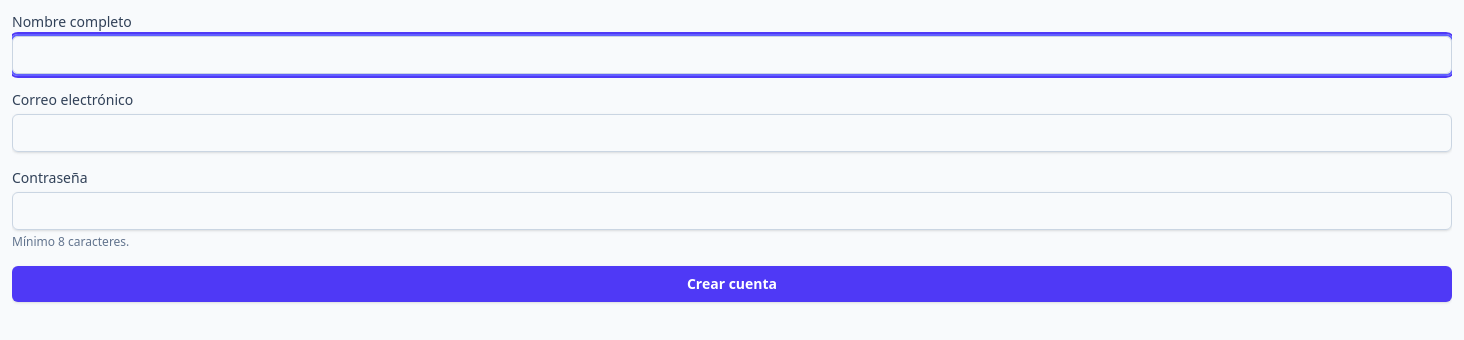
Test case: RegisterForm (accesible, validación visual) › rechaza una contraseña menor a 8 caracteres con mensaje específico
Type "Ana García" into the field labelled "Nombre completo".
click(732, 55); type("Ana García")  # box [12,36,1452,74]
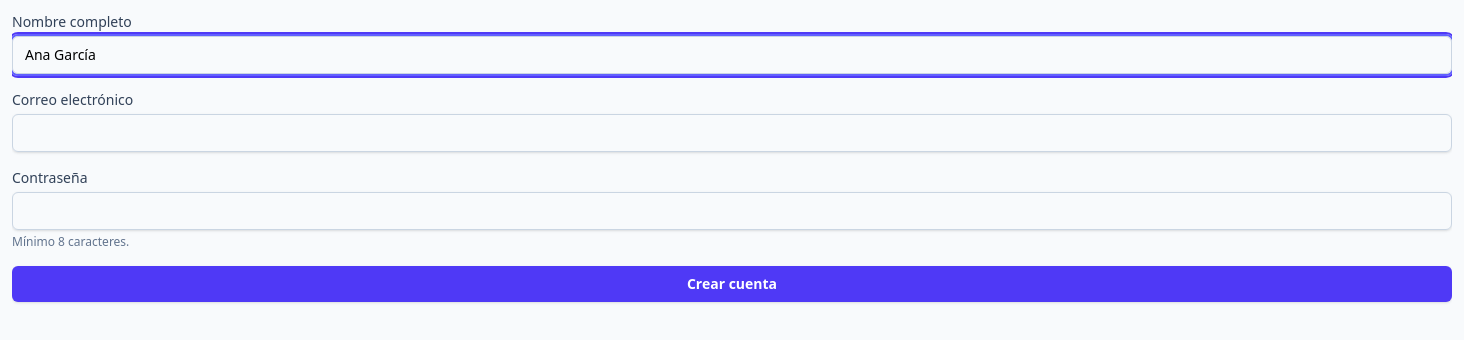
Type "ana@example.com" into the field labelled "Correo electrónico".
click(732, 133); type("ana@example.com")  # box [12,114,1452,152]
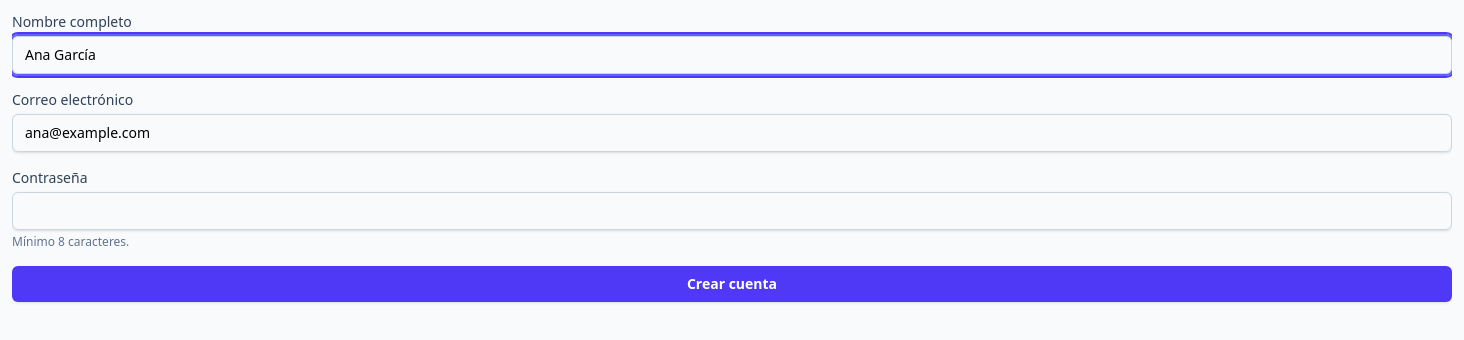
Type "corta" into the password field labelled "Contraseña".
click(732, 211); type("corta")  # box [12,192,1452,230]
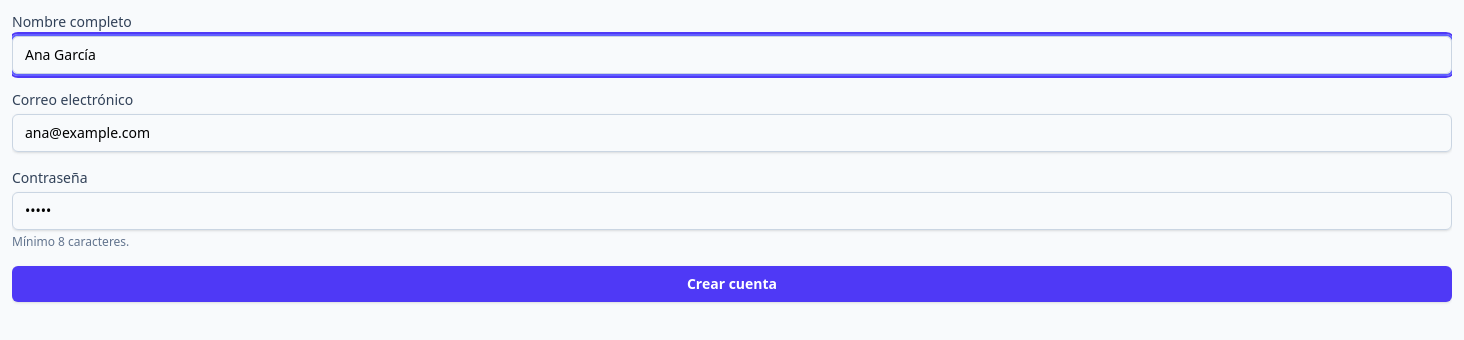
Click the button "Crear cuenta".
click(732, 284)  # box [12,266,1452,302]
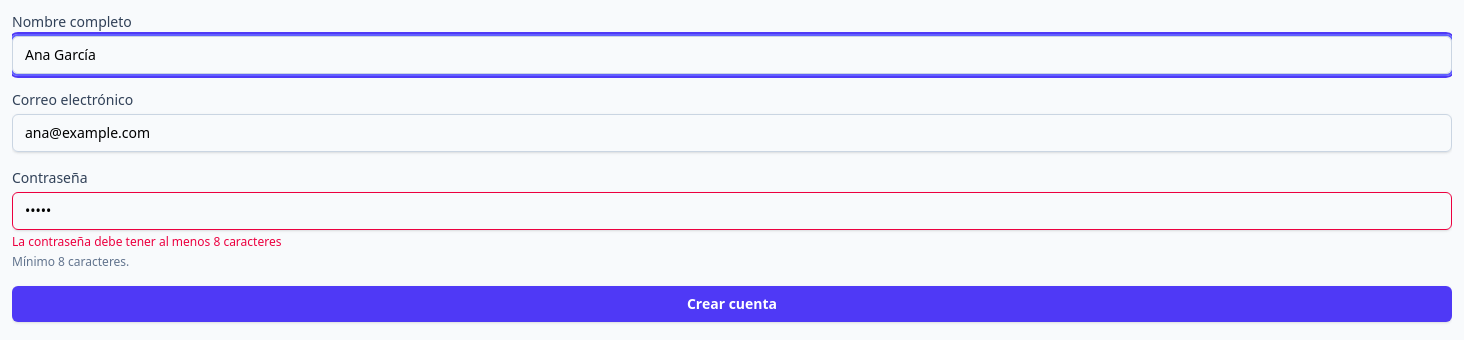
expect the text "La contraseña debe tener al menos 8 caracteres" is shown: met, box [12,233,281,250]
